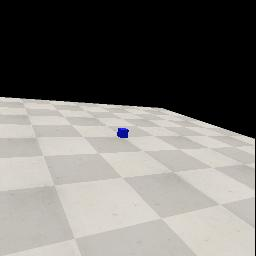box: (117, 128, 129, 138)
